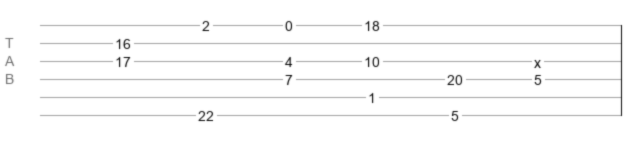0: (285, 18, 293, 28)
1: (368, 90, 376, 100)
10: (364, 54, 380, 64)
16: (115, 36, 131, 46)
17: (115, 54, 131, 64)
18: (364, 18, 380, 28)
2: (202, 18, 210, 28)
20: (447, 72, 463, 82)
22: (198, 108, 214, 118)
4: (285, 54, 293, 64)
5: (451, 108, 459, 118), (534, 72, 542, 82)
7: (285, 72, 293, 82)
x: (534, 55, 541, 63)
